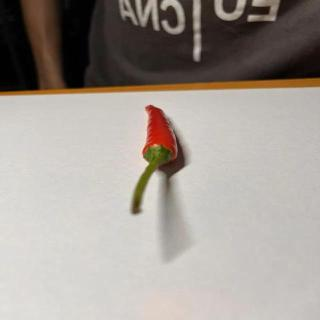Cabai Merah: (130, 105, 179, 216)
